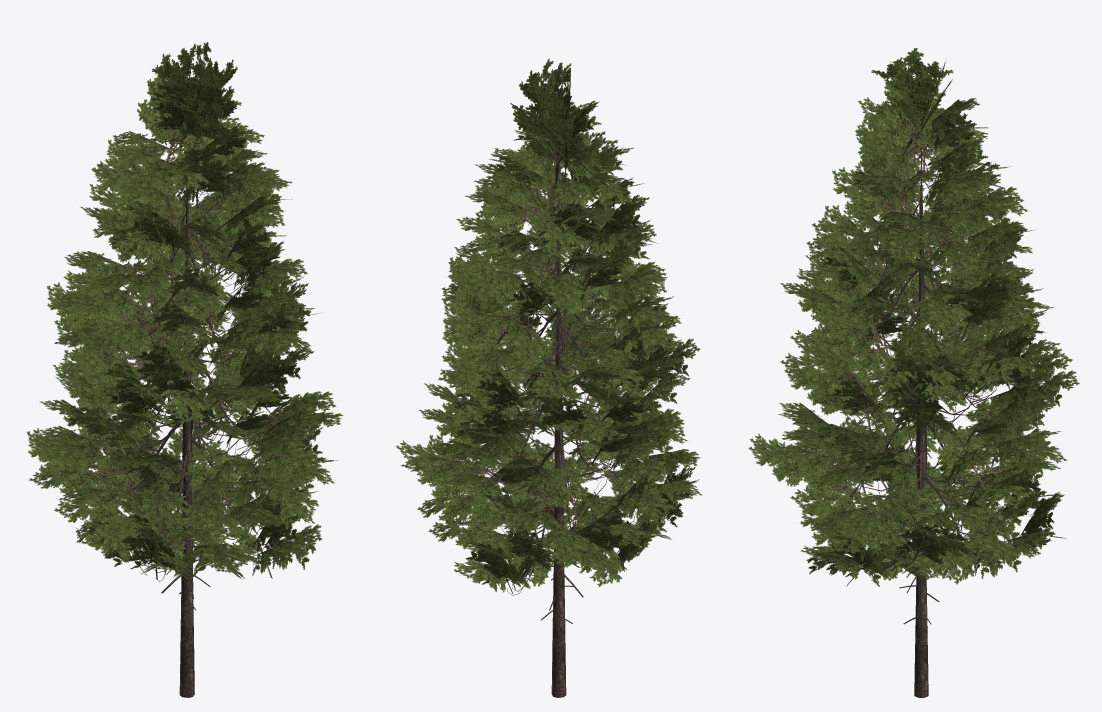
The model's file is firTree.glb.
3 views of the same model, side by side, from view 1: azimuth 30°, elevation 25°; view 2: azimuth 150°, elevation 25°; view 3: azimuth 270°, elevation 25° (orthographic). The views are drawn at different scales.
Parts seen in each view (by area): view 1: FirTree_17; view 2: FirTree_17; view 3: FirTree_17.
Boxes of the visible parts, x1,y1,x2,y2 form: FirTree_17: (26,42,343,697); FirTree_17: (395,58,702,697); FirTree_17: (748,48,1079,697).
Size of the model in its own units: 8.22 by 17.64 by 8.25.
2 materials, 2 textured.
